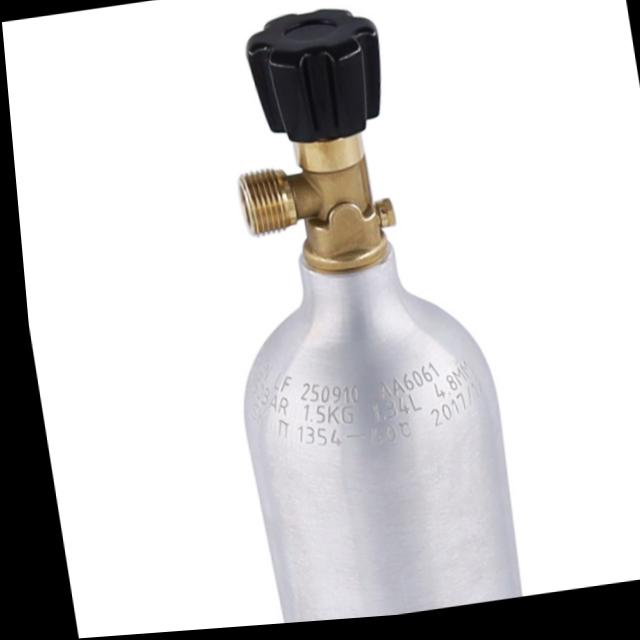ocr: (235, 351, 486, 463)
